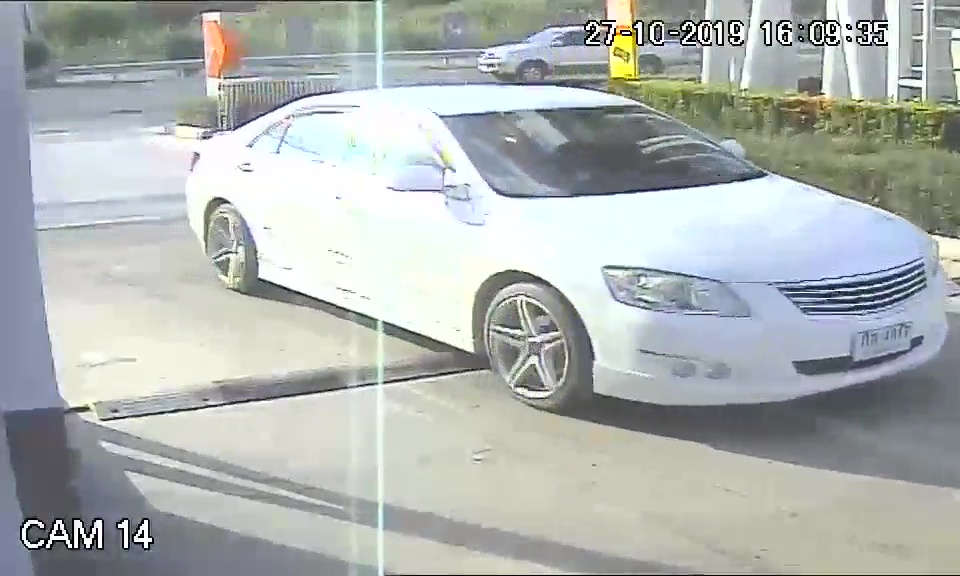sedan: (182, 82, 952, 412)
